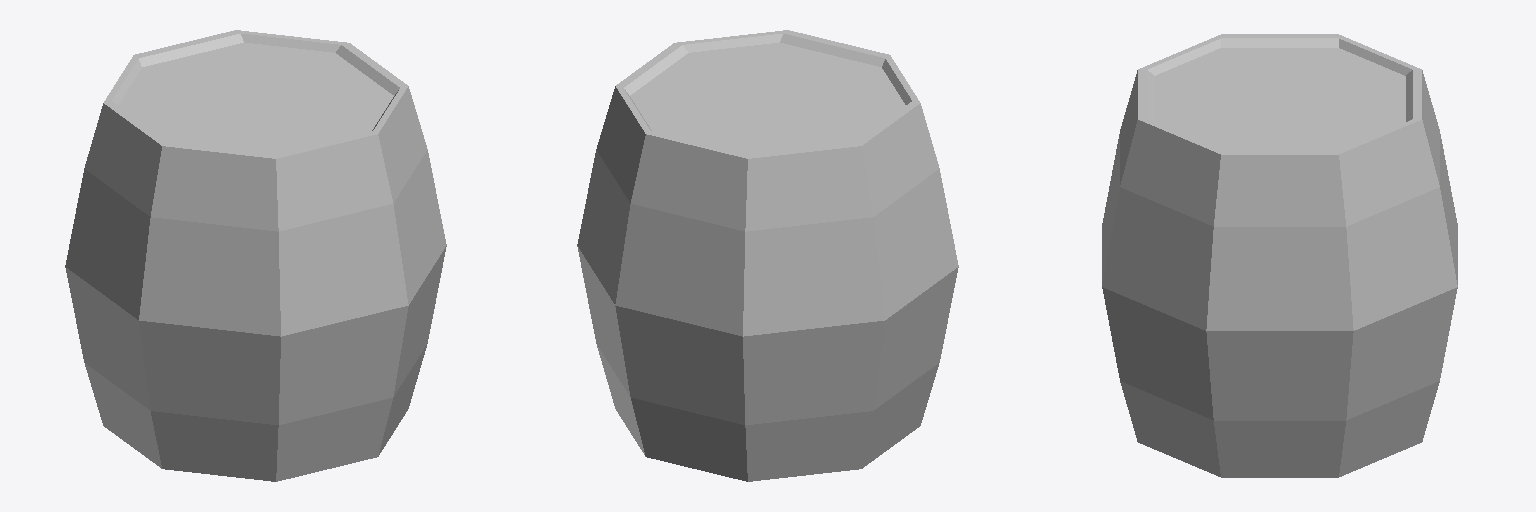
Rendered from wood_barrel.obj.
3 views of the same model, side by side, from view 1: azimuth 30°, elevation 25°; view 2: azimuth 150°, elevation 25°; view 3: azimuth 270°, elevation 25° (orthographic).
Visible parts, largest first — view 1: Cylinder_Cylinder.001; view 2: Cylinder_Cylinder.001; view 3: Cylinder_Cylinder.001.
Part boxes in pixels (left/top/right/bottom): Cylinder_Cylinder.001: left=65, top=30, right=446, bottom=481; Cylinder_Cylinder.001: left=577, top=30, right=958, bottom=481; Cylinder_Cylinder.001: left=1102, top=34, right=1457, bottom=477.
Size of the model in its own units: 0.9978 by 1 by 0.9978.